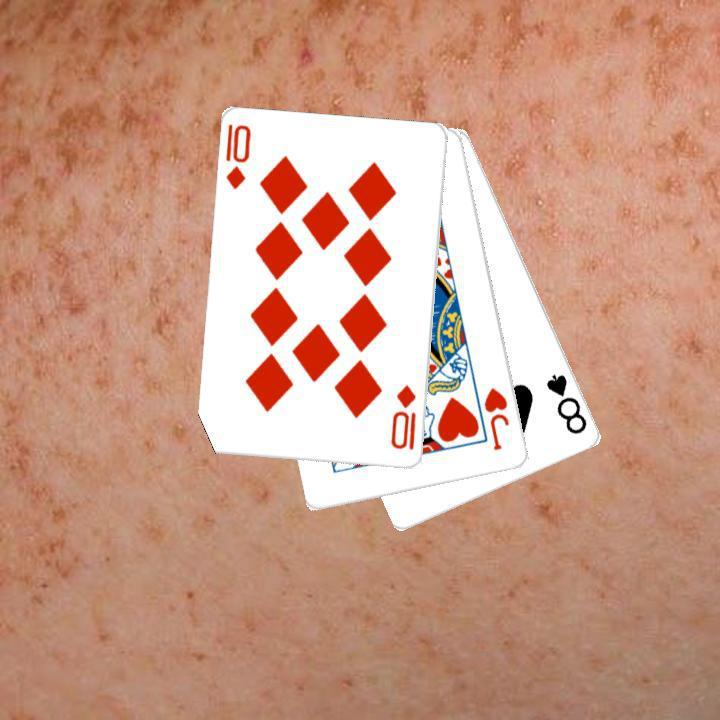10: (221, 119, 253, 192), (387, 381, 419, 452)
8: (542, 370, 590, 437)
J: (480, 383, 512, 453)
